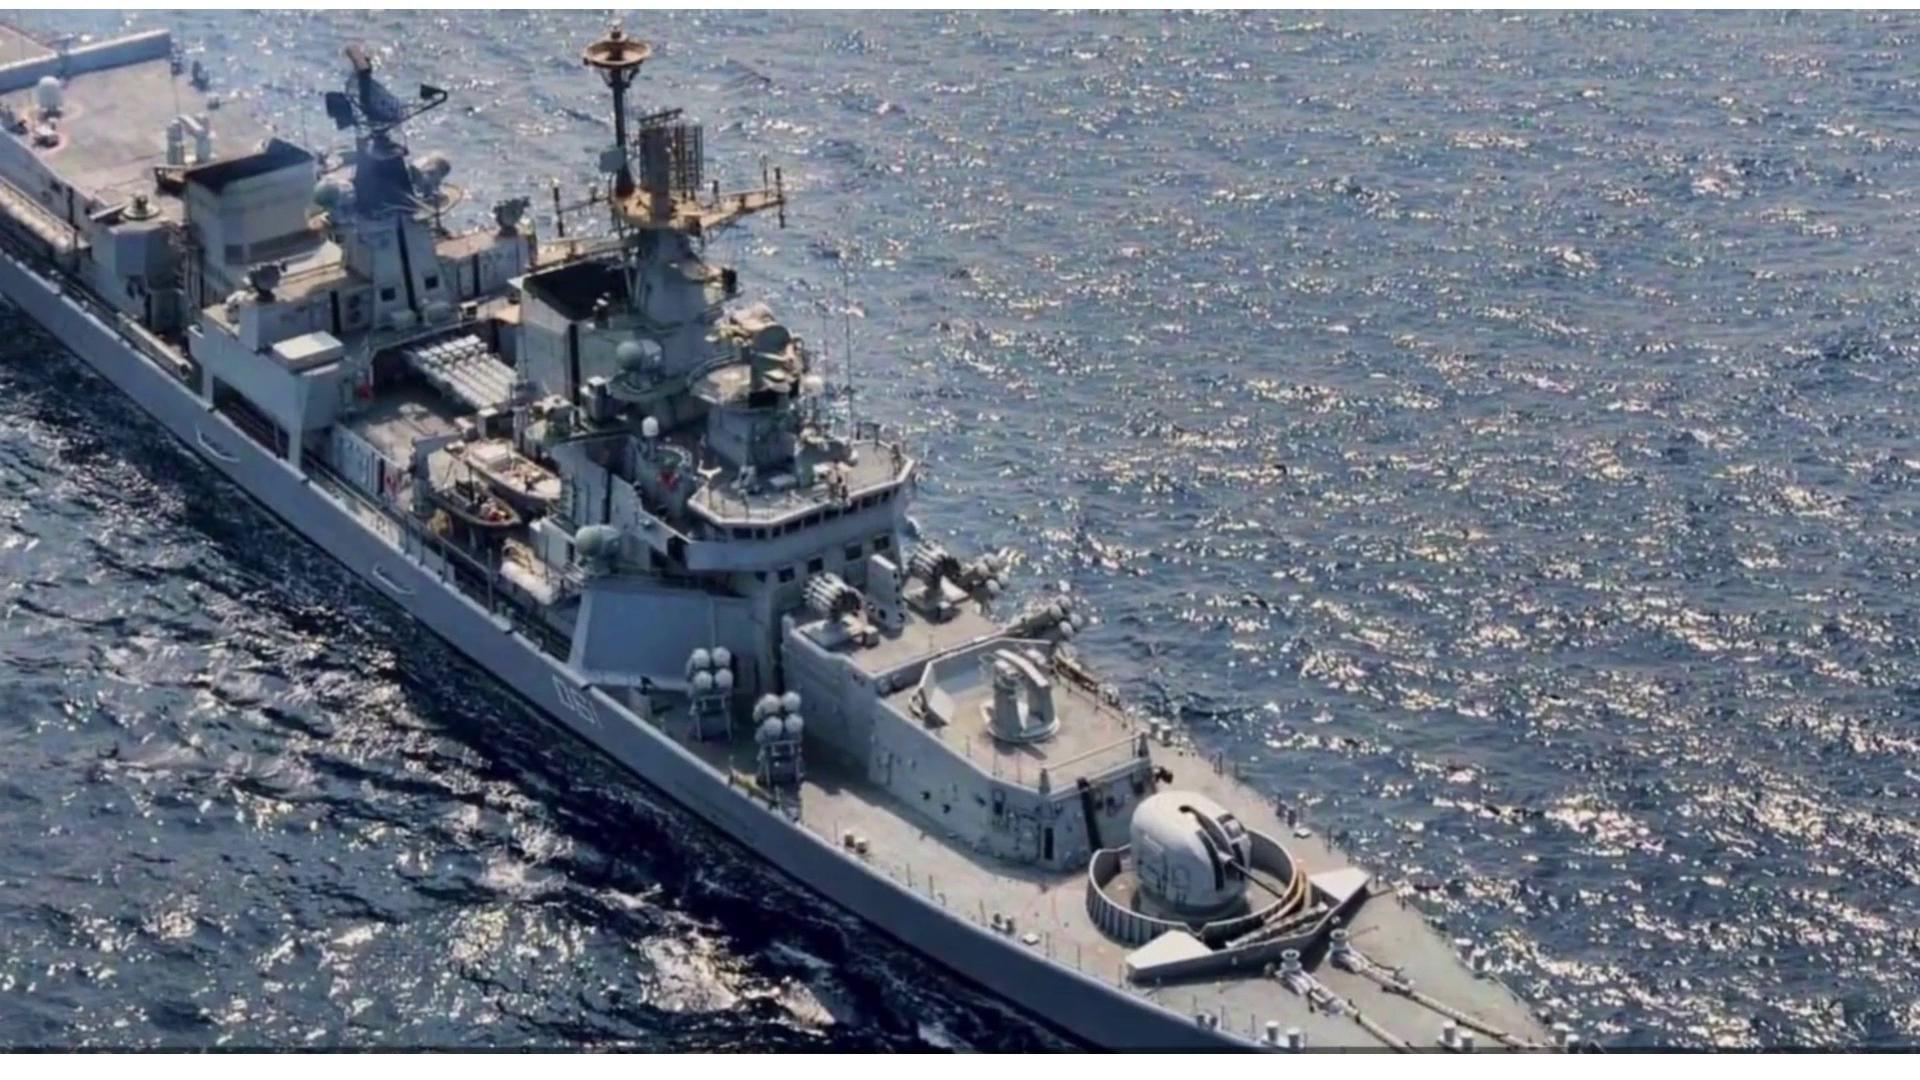OCR: (542, 666, 621, 746)
